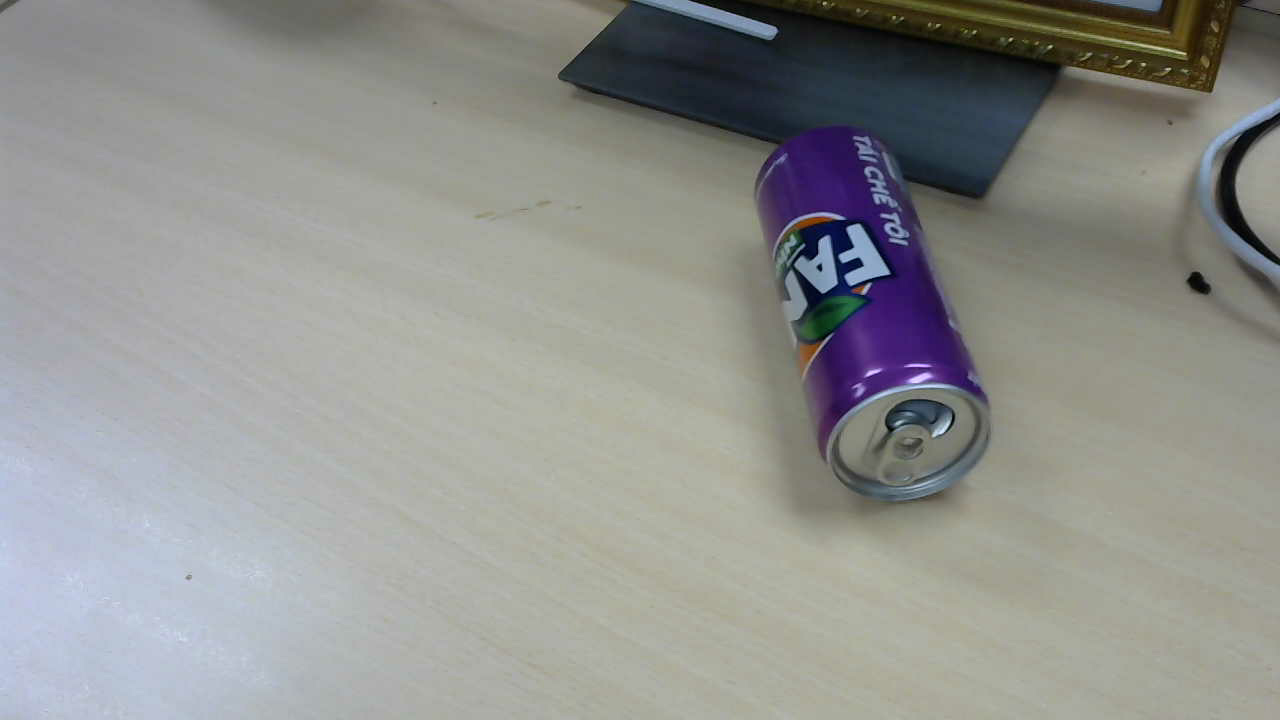Fanta: (756, 131, 994, 504)
